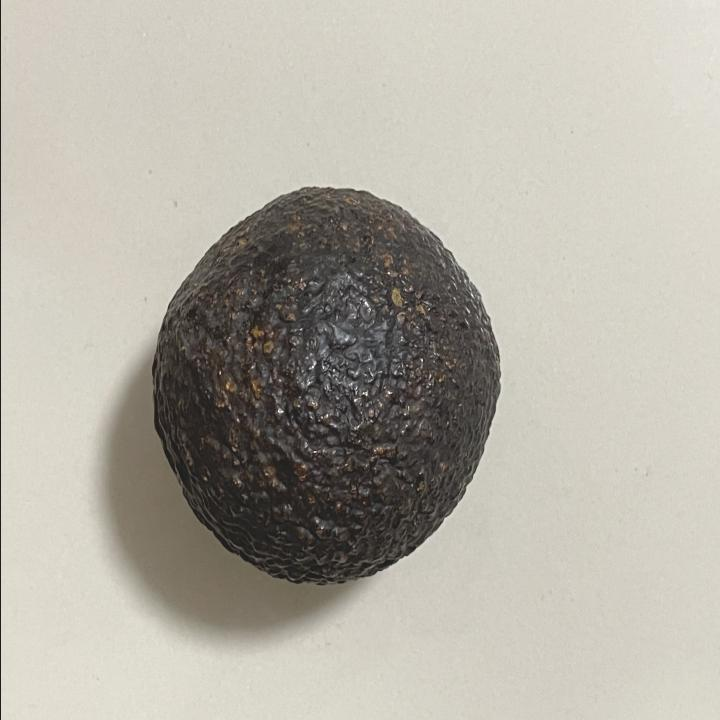Level2: (146, 180, 510, 596)
